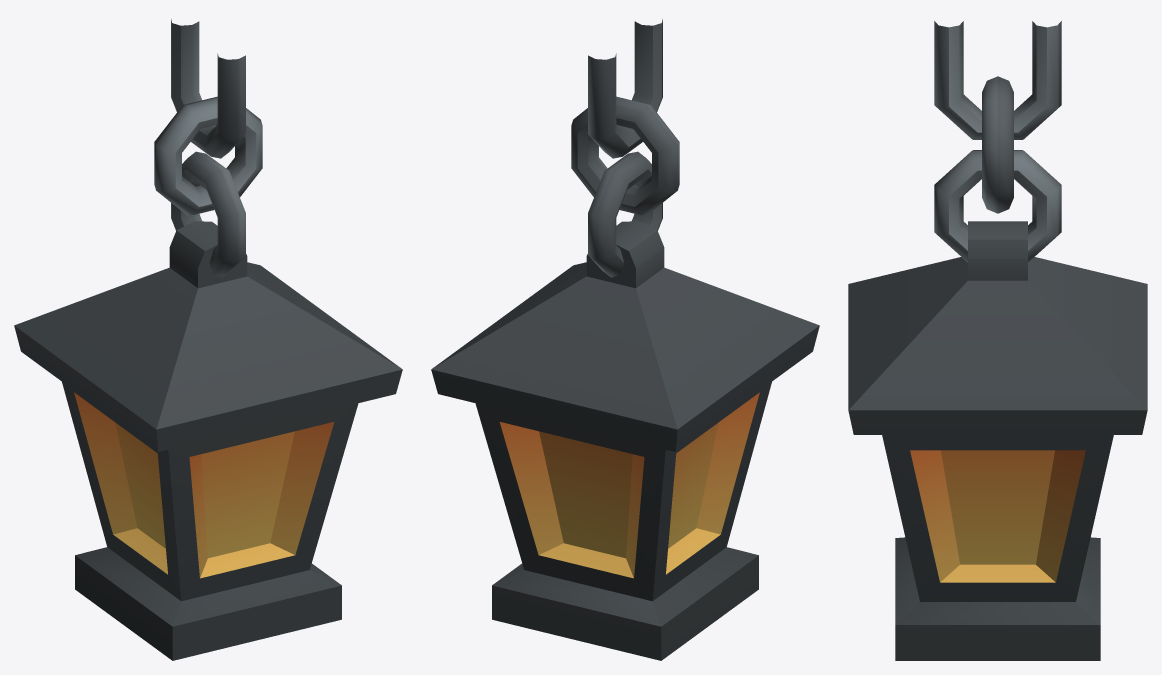
The model's file is lantern_hanging.glb.
3 views of the same model, side by side, from view 1: azimuth 30°, elevation 25°; view 2: azimuth 150°, elevation 25°; view 3: azimuth 270°, elevation 25° (orthographic). The views are drawn at different scales.
Parts seen in each view (by area): view 1: lantern_hanging; view 2: lantern_hanging; view 3: lantern_hanging.
Part boxes in pixels (left/top/right/bottom): lantern_hanging: left=14, top=19, right=402, bottom=660; lantern_hanging: left=431, top=19, right=819, bottom=660; lantern_hanging: left=848, top=21, right=1147, bottom=660.
Bounding box in the file's own units: 0.64 × 1.41 × 0.64.
